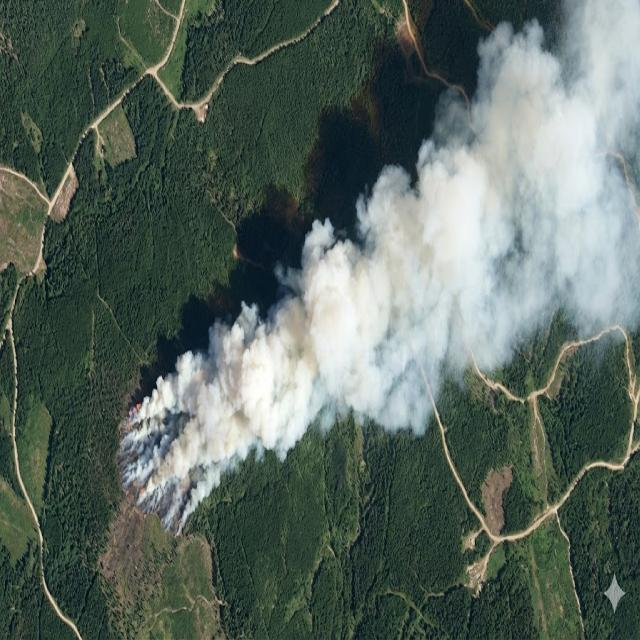wildfire: (120, 247, 424, 530)
